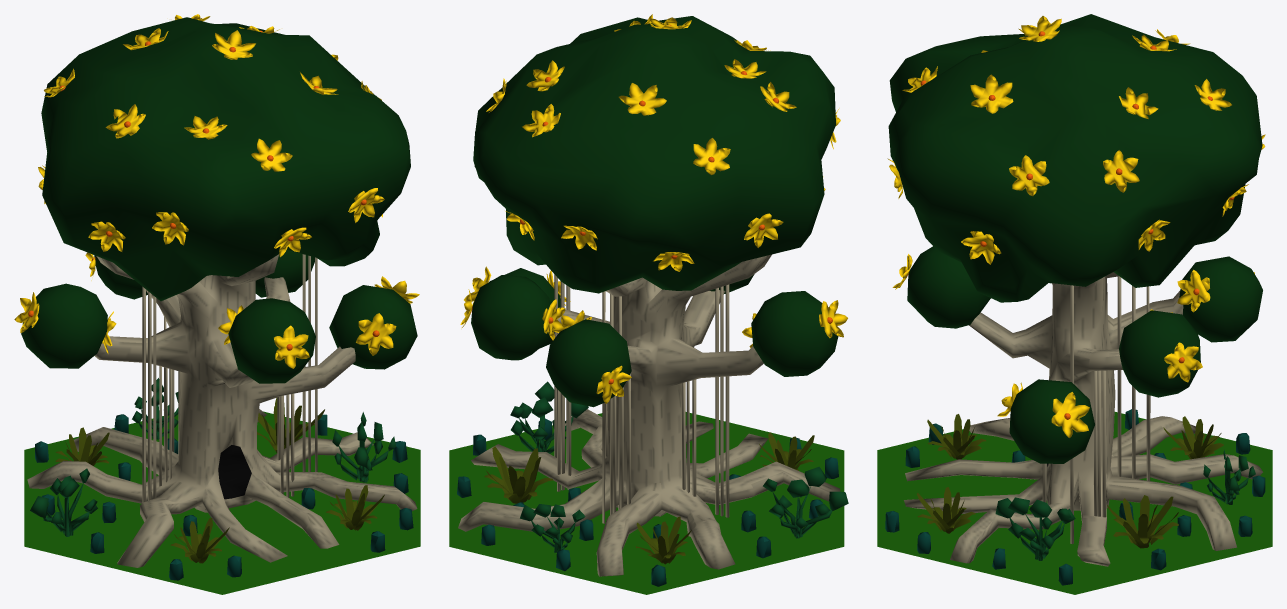
File: Idle_Corazon_Selva.fbx
3 views of the same model, side by side, from view 1: azimuth 30°, elevation 25°; view 2: azimuth 150°, elevation 25°; view 3: azimuth 270°, elevation 25° (orthographic).
Parts seen in each view (by area): view 1: Arbol; view 2: Arbol; view 3: Arbol.
Boxes of the visible parts, x1,y1,x2,y2 form: Arbol: [14, 14, 420, 594]; Arbol: [449, 14, 848, 594]; Arbol: [877, 14, 1272, 594].
Size of the model in its own units: 140 by 161 by 120.
Materials: 1 (1 with a texture image).
